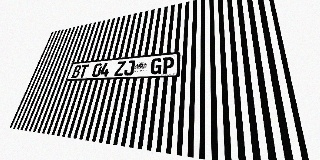plate: (66, 51, 181, 81)
